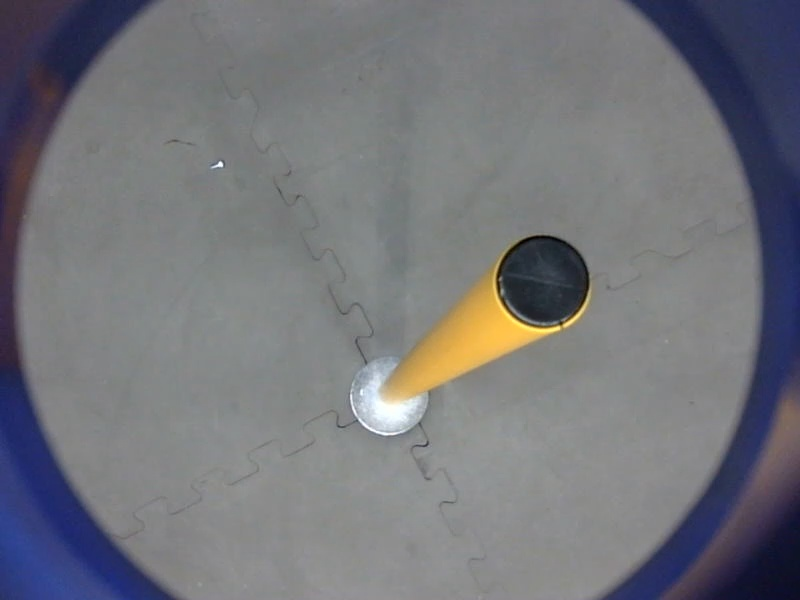tip: (486, 229, 598, 340)
